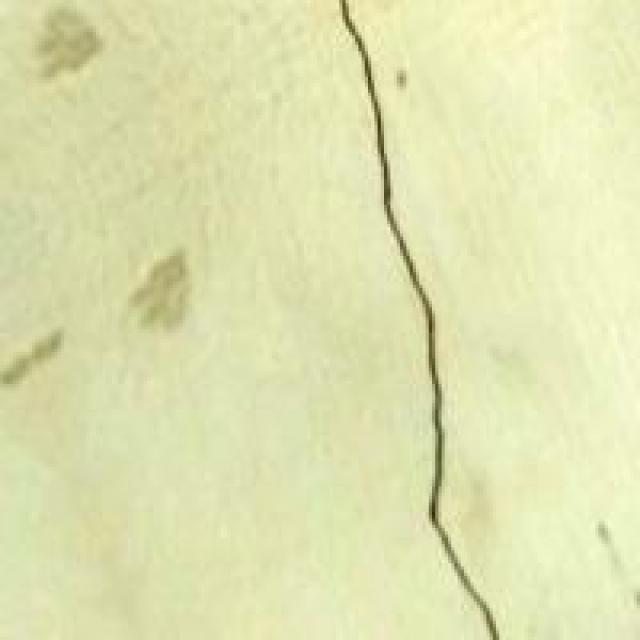Crack: (282, 0, 528, 634)
